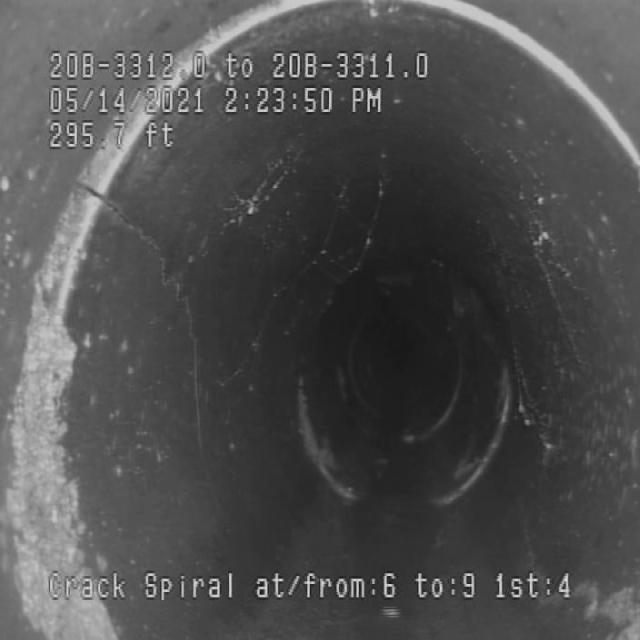Crack: (126, 190, 222, 403)
